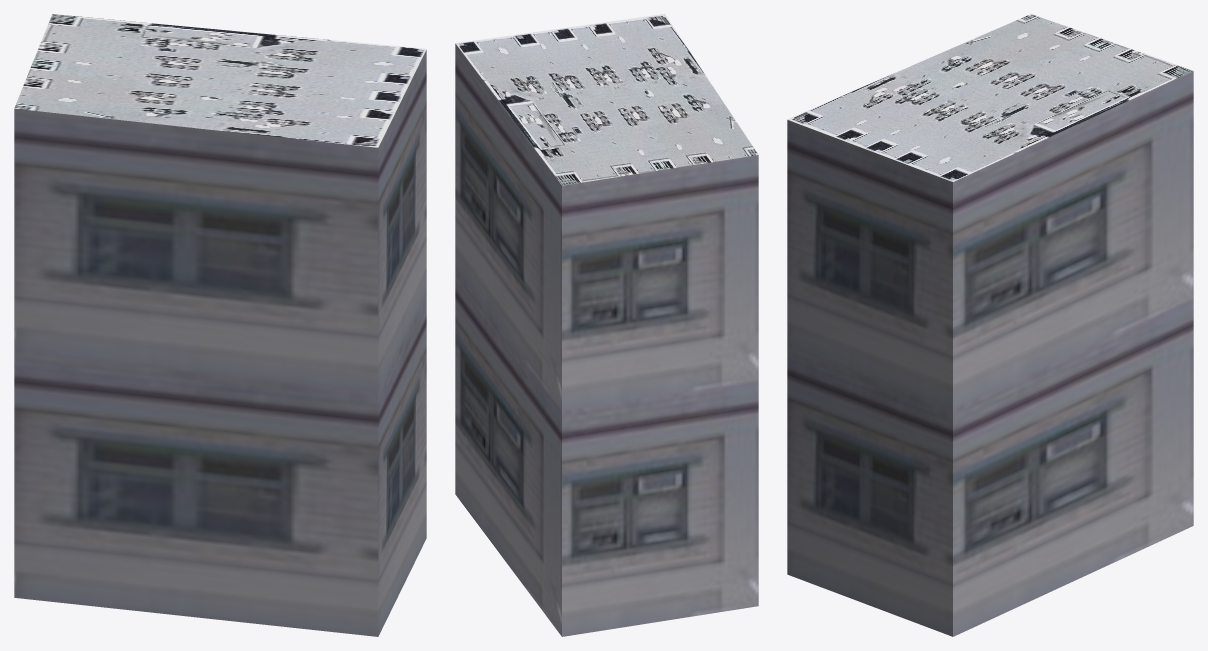
Rendered from ResTex__4736.fbx.
3 renders of one model, left to right at view 1: azimuth 30°, elevation 25°; view 2: azimuth 150°, elevation 25°; view 3: azimuth 270°, elevation 25°, orthographic. The views are drawn at different scales.
Visible parts, largest first — view 1: CityEngineMaterial_1_m, CityEngineMaterial_4_m; view 2: CityEngineMaterial_1_m, CityEngineMaterial_4_m; view 3: CityEngineMaterial_1_m, CityEngineMaterial_4_m.
Part boxes in pixels (left/top/right/bottom): CityEngineMaterial_1_m: left=14, top=50, right=426, bottom=636; CityEngineMaterial_4_m: left=14, top=14, right=426, bottom=147; CityEngineMaterial_1_m: left=455, top=43, right=758, bottom=636; CityEngineMaterial_4_m: left=455, top=14, right=758, bottom=185; CityEngineMaterial_1_m: left=787, top=71, right=1193, bottom=636; CityEngineMaterial_4_m: left=787, top=14, right=1192, bottom=181.
Size of the model in its own units: 4.76 by 6 by 4.86.
2 materials, 2 textured.
